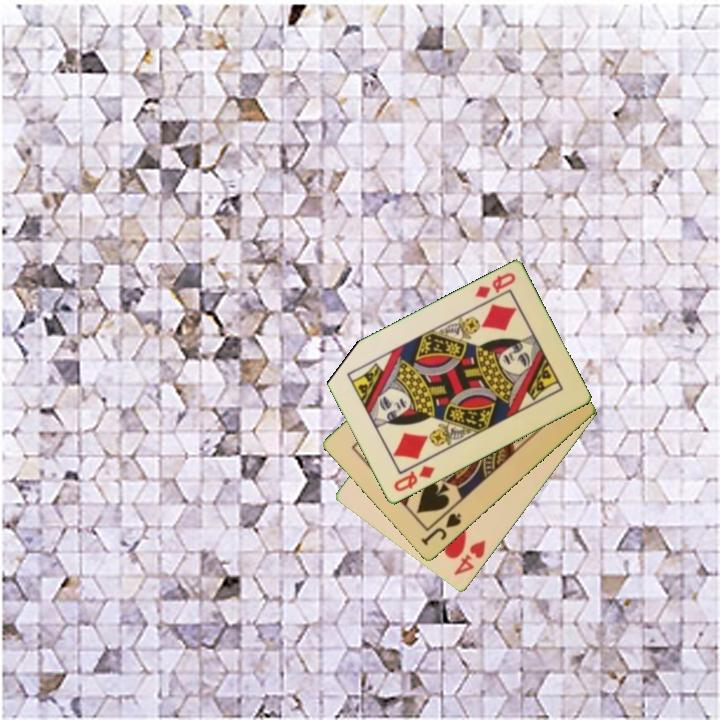4h: (450, 536, 489, 579)
Js: (417, 510, 464, 549)
Qd: (390, 462, 438, 495), (471, 269, 519, 302)
